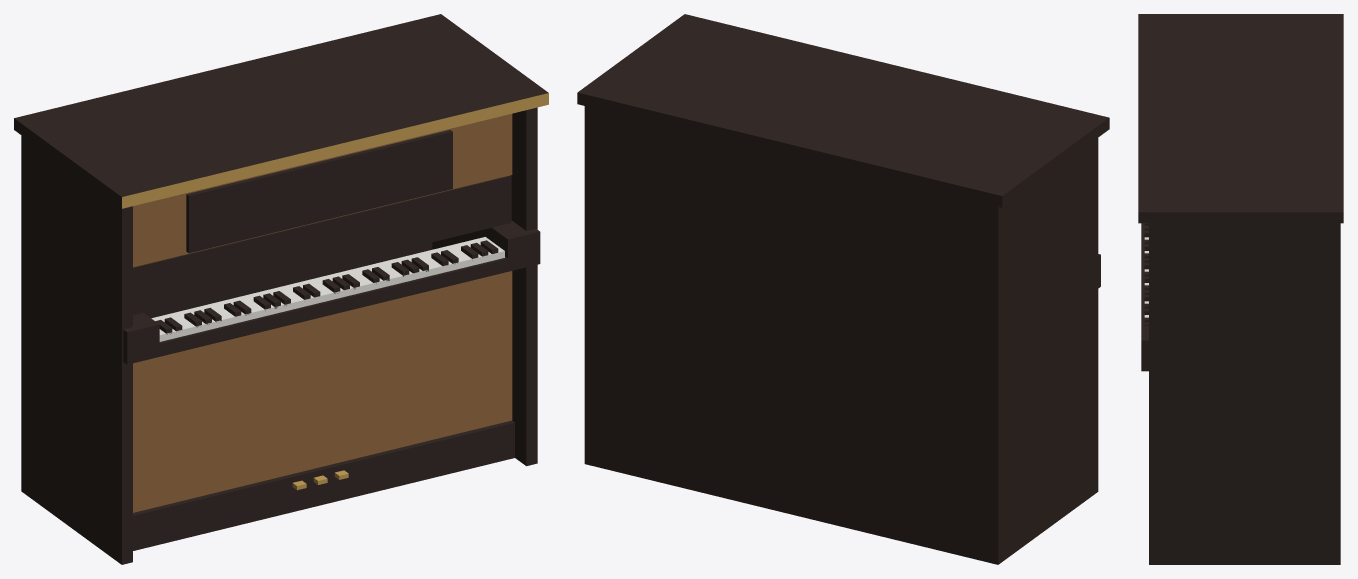
File: FN_Piano_Upright.obj
The picture shows the model from 3 angles, left to right: view 1: azimuth 30°, elevation 25°; view 2: azimuth 150°, elevation 25°; view 3: azimuth 270°, elevation 25°; orthographic projection. The views are drawn at different scales.
Visible parts, largest first — view 1: FN_Piano_Upright; view 2: FN_Piano_Upright; view 3: FN_Piano_Upright.
Boxes of the visible parts, bbox=[...] form: FN_Piano_Upright: bbox=[14, 14, 548, 564]; FN_Piano_Upright: bbox=[577, 14, 1109, 564]; FN_Piano_Upright: bbox=[1138, 14, 1343, 564].
Bounding box in the file's own units: 1.52 × 1.27 × 0.665.
Materials: 1 (1 with a texture image).
